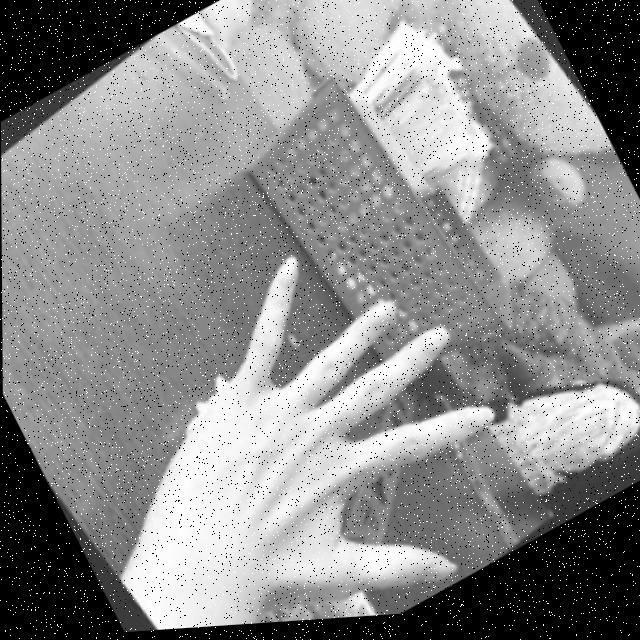no-gloves: (118, 195, 550, 634)
